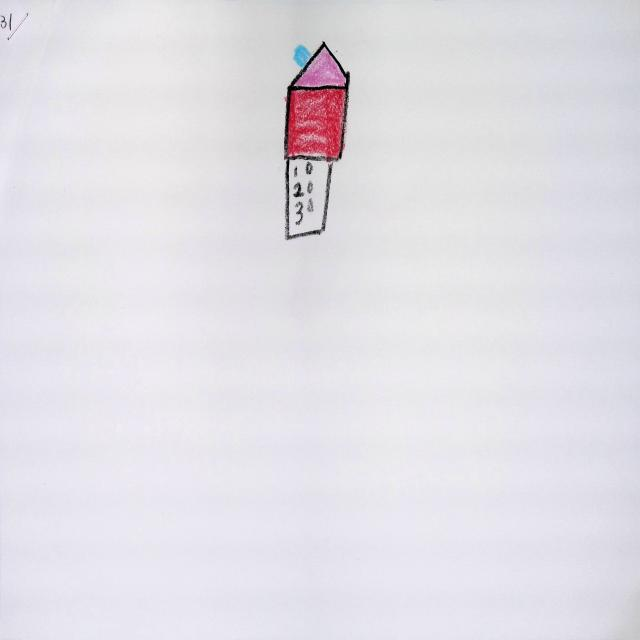chimney: (294, 44, 311, 67)
house: (286, 42, 350, 239)
roof: (294, 46, 347, 87)
wall: (286, 89, 350, 241)
window: (306, 162, 313, 174), (307, 198, 313, 212), (309, 182, 314, 194)
